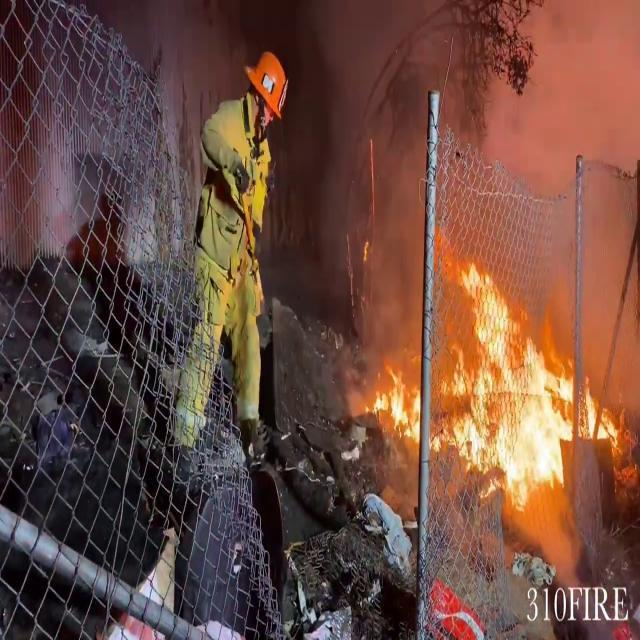Fire: (456, 256, 628, 499), (374, 372, 431, 452)
Smoke: (331, 0, 640, 338)
